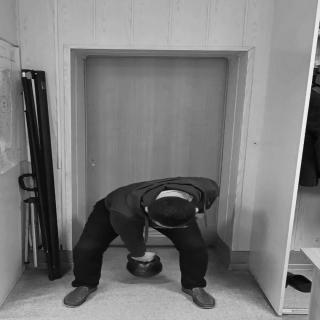kettlebell: (126, 253, 166, 280)
